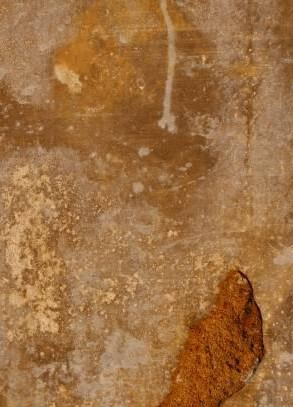Corrosion: (157, 269, 266, 407)
